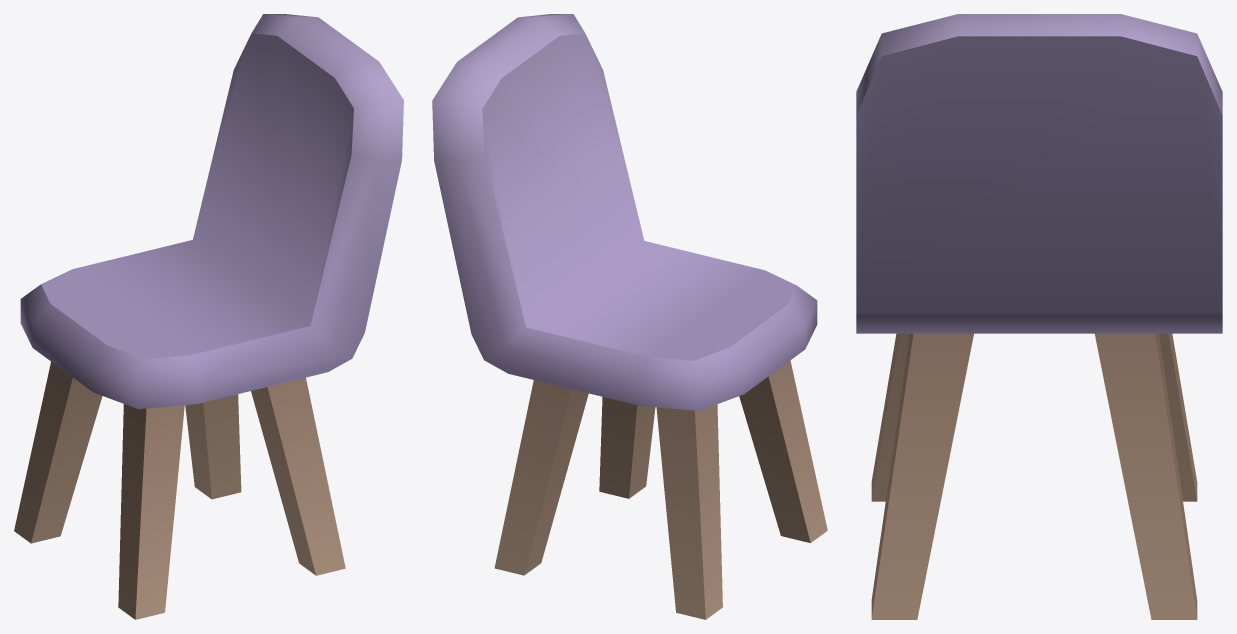
Rendered from cross-chair-classic.glb.
3 renders of one model, left to right at view 1: azimuth 30°, elevation 25°; view 2: azimuth 150°, elevation 25°; view 3: azimuth 270°, elevation 25°, orthographic. The views are drawn at different scales.
Visible parts, largest first — view 1: cross-chair-classic; view 2: cross-chair-classic; view 3: cross-chair-classic.
Boxes of the visible parts, x1,y1,x2,y2 form: cross-chair-classic: [14, 14, 403, 619]; cross-chair-classic: [432, 14, 827, 619]; cross-chair-classic: [856, 14, 1222, 619].
Bounding box in the file's own units: 0.4351 × 0.6875 × 0.36.
